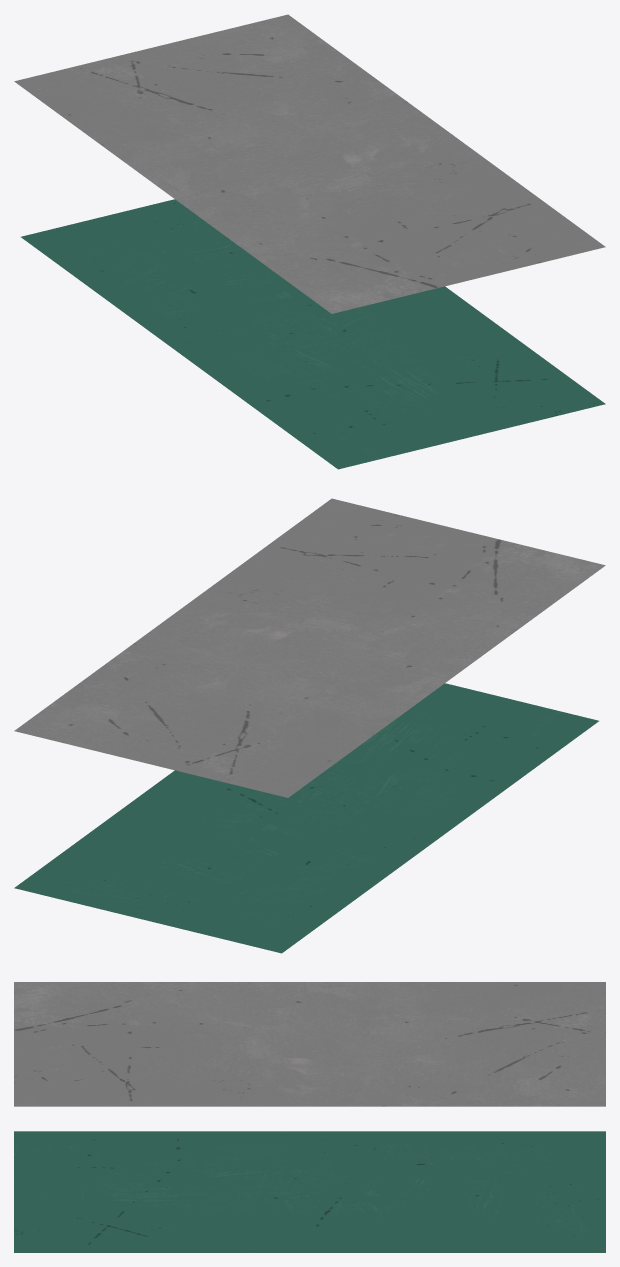
3 views of the same model, one above another, from view 1: azimuth 30°, elevation 25°; view 2: azimuth 150°, elevation 25°; view 3: azimuth 270°, elevation 25° (orthographic). The views are drawn at different scales.
Parts seen in each view (by area): view 1: polySurface220.001; view 2: polySurface220.001; view 3: polySurface220.001.
Boxes of the visible parts, x1=… form: polySurface220.001: x1=14, y1=14, x2=605, y2=469; polySurface220.001: x1=14, y1=498, x2=605, y2=953; polySurface220.001: x1=14, y1=982, x2=605, y2=1252.
Size of the model in its own units: 31.93 by 17.47 by 64.09.
Materials: 1 (1 with a texture image).
